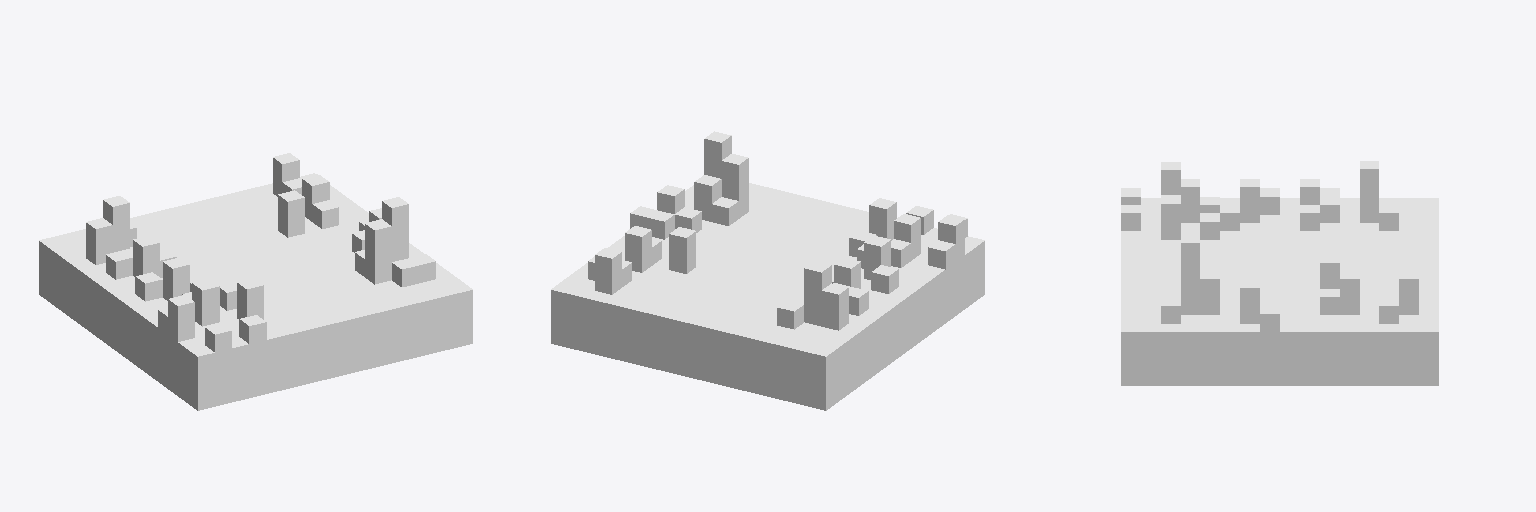
The model's file is trainstraight.obj.
3 views of the same model, side by side, from view 1: azimuth 30°, elevation 25°; view 2: azimuth 150°, elevation 25°; view 3: azimuth 270°, elevation 25° (orthographic).
Visible parts, largest first — view 1: CaveTrainStright; view 2: CaveTrainStright; view 3: CaveTrainStright.
Part boxes in pixels (bbox=[...]): CaveTrainStright: bbox=[39, 153, 472, 410]; CaveTrainStright: bbox=[551, 131, 984, 410]; CaveTrainStright: bbox=[1121, 161, 1438, 385].
Bounding box in the file's own units: 16 × 7 × 16.